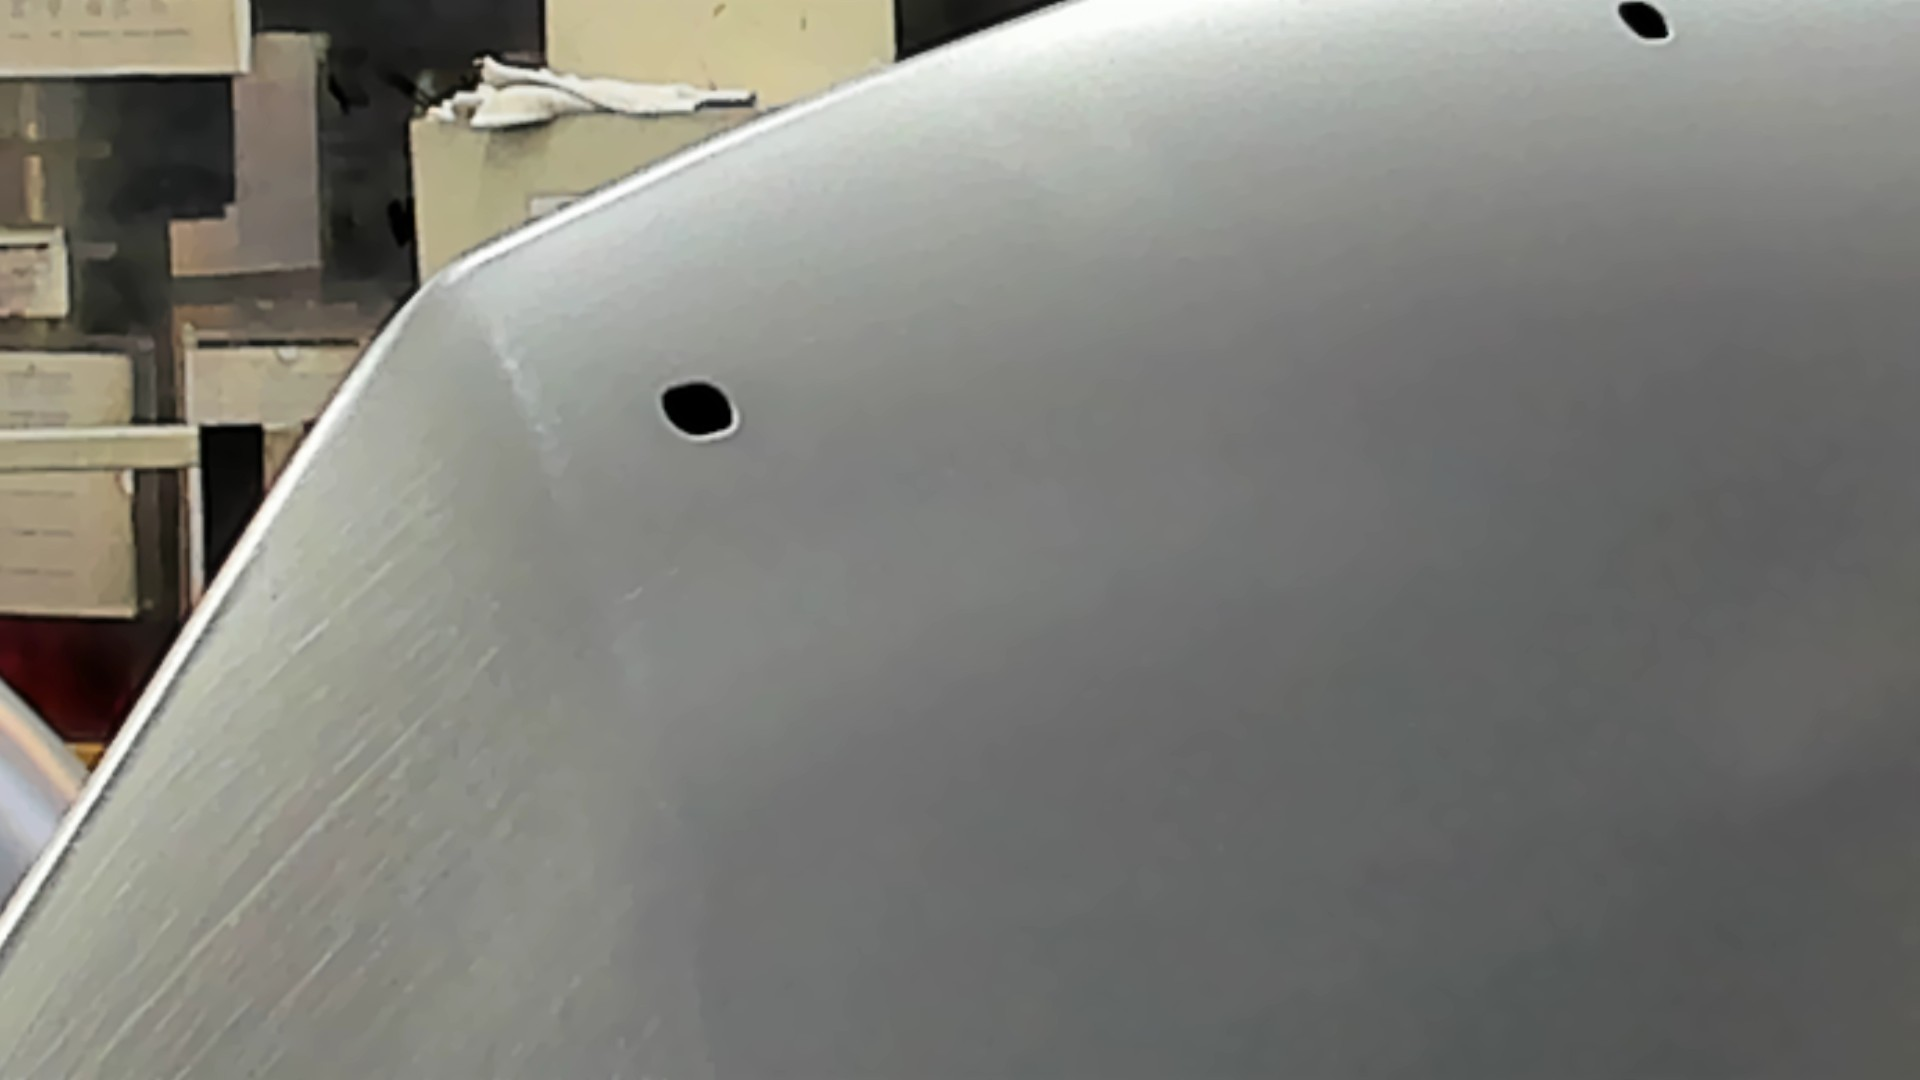amorfo: (651, 372, 752, 446), (1605, 1, 1675, 47)
